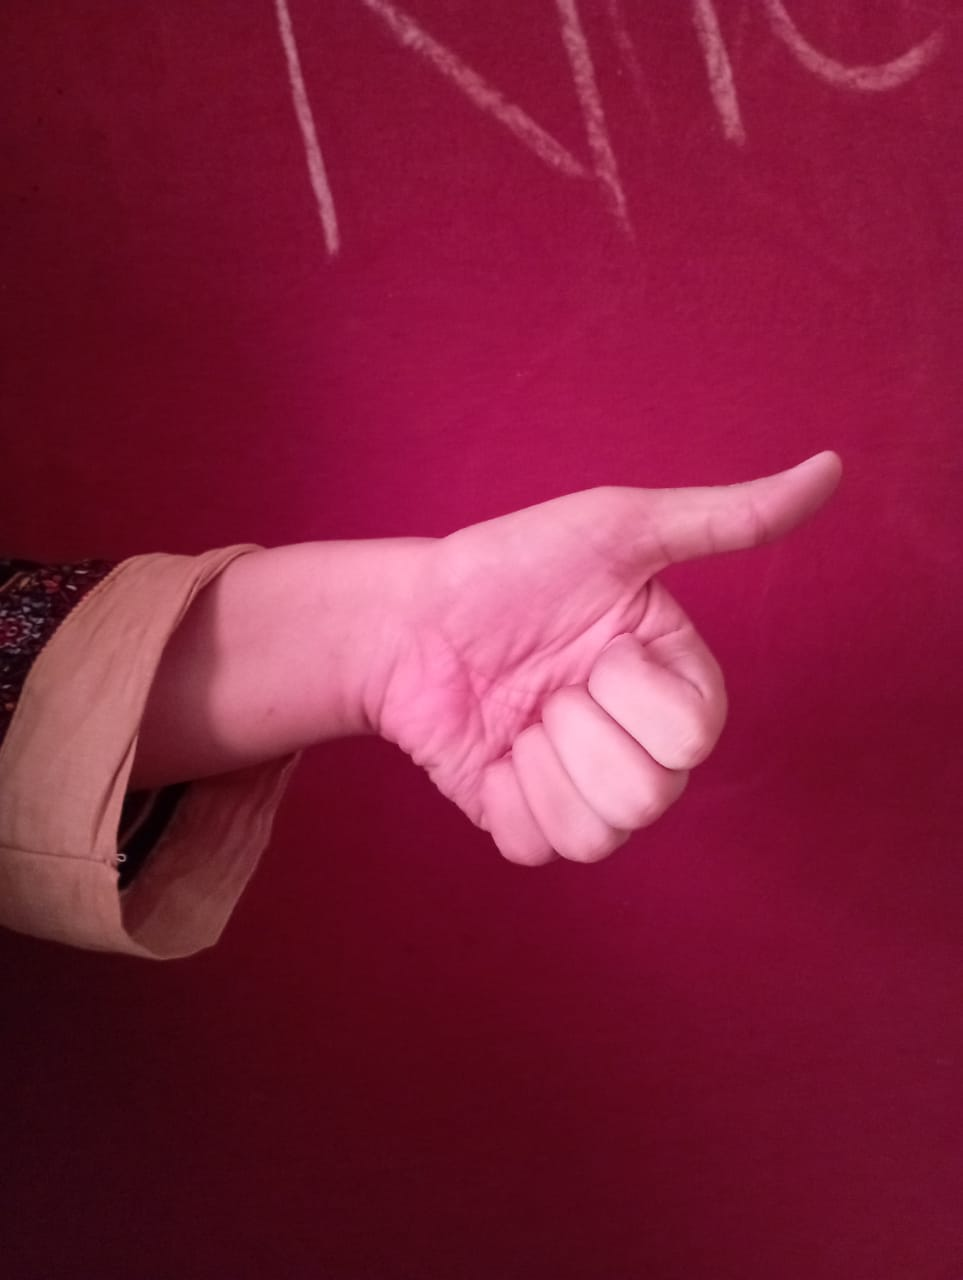I Like It: (436, 435, 856, 888)
